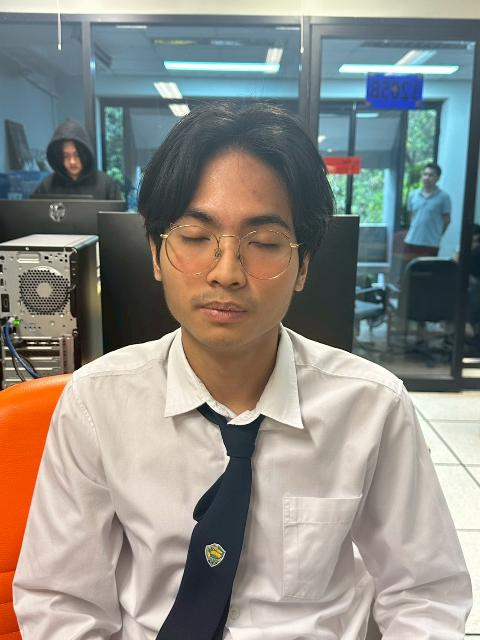fokus: (142, 105, 315, 346)
